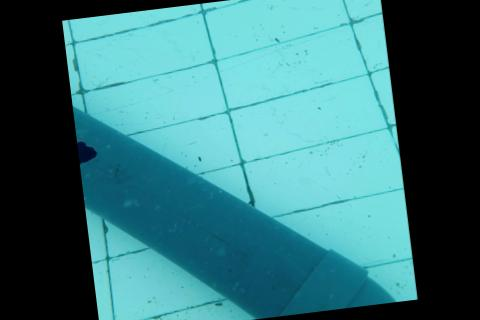kebocoran: (76, 137, 98, 165)
